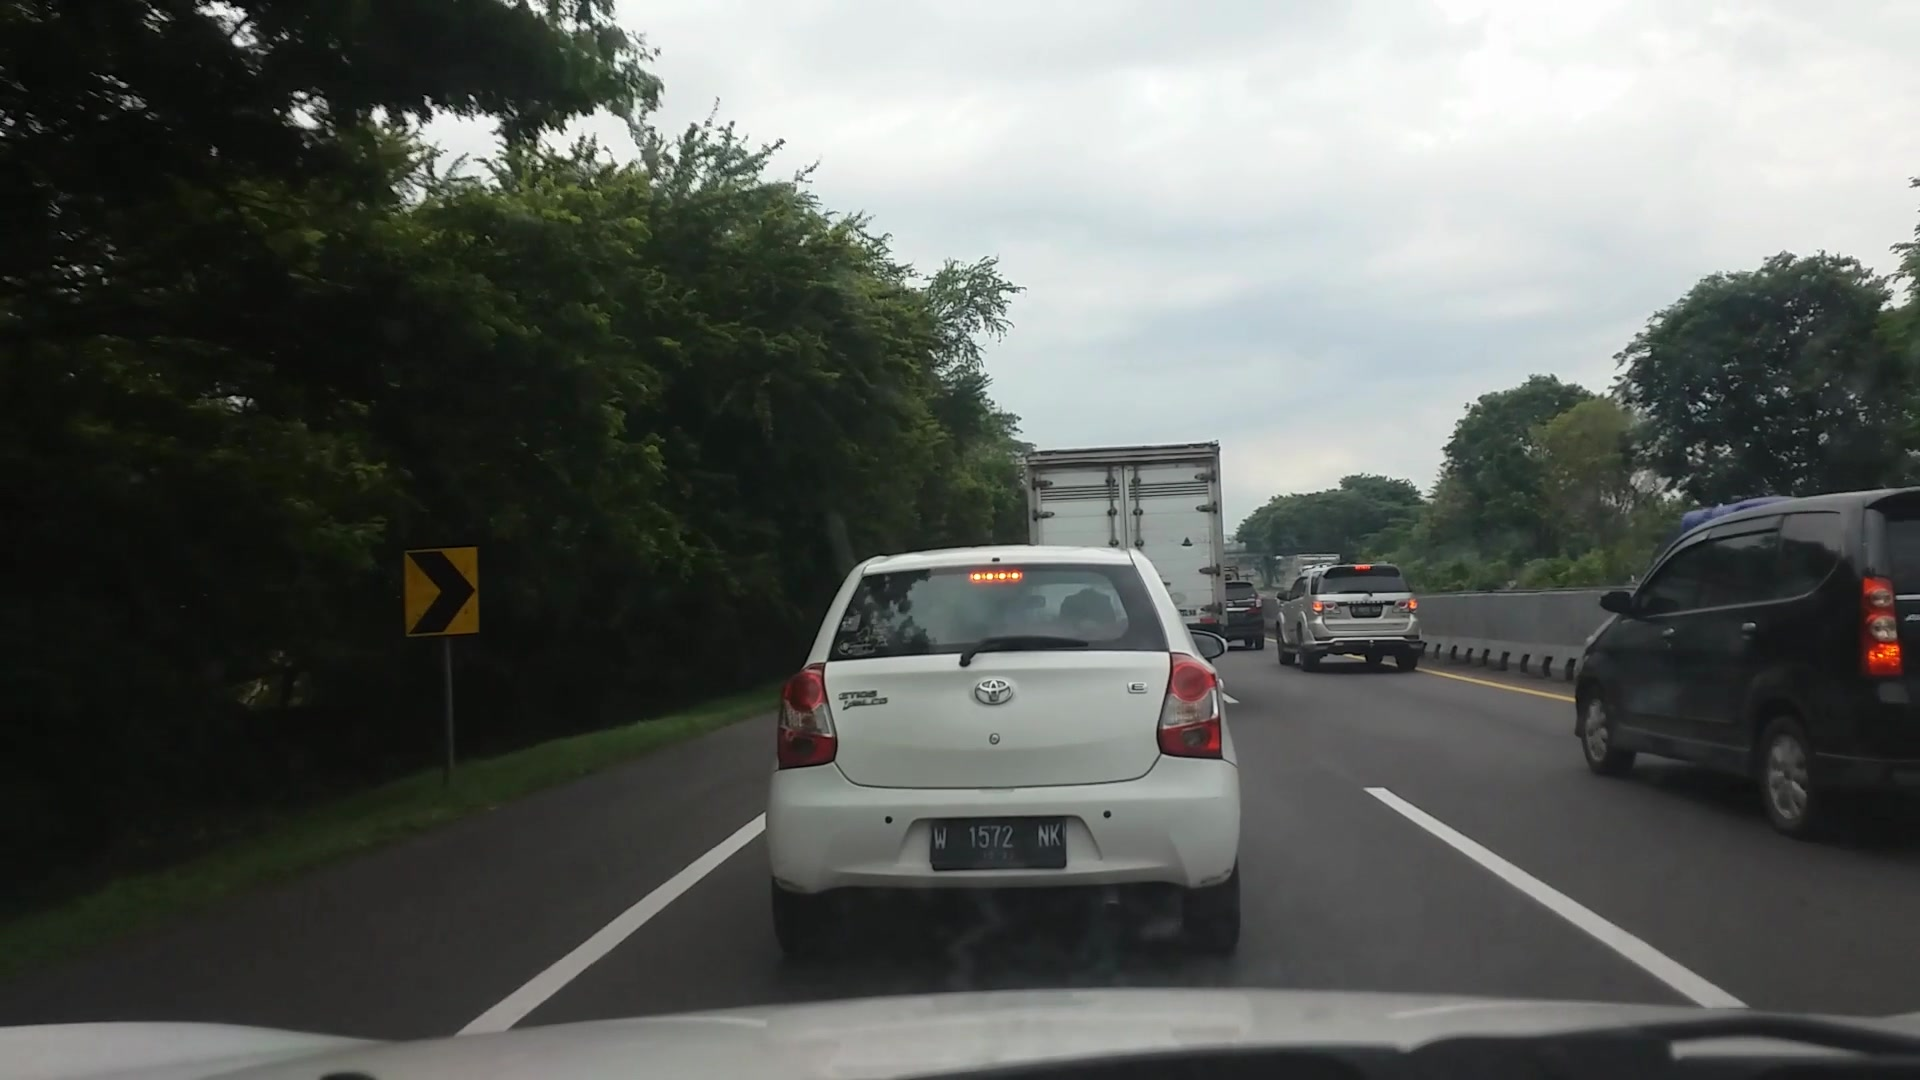plate_positive: (930, 816, 1068, 872)
